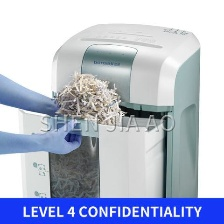book: (50, 66, 127, 129)
